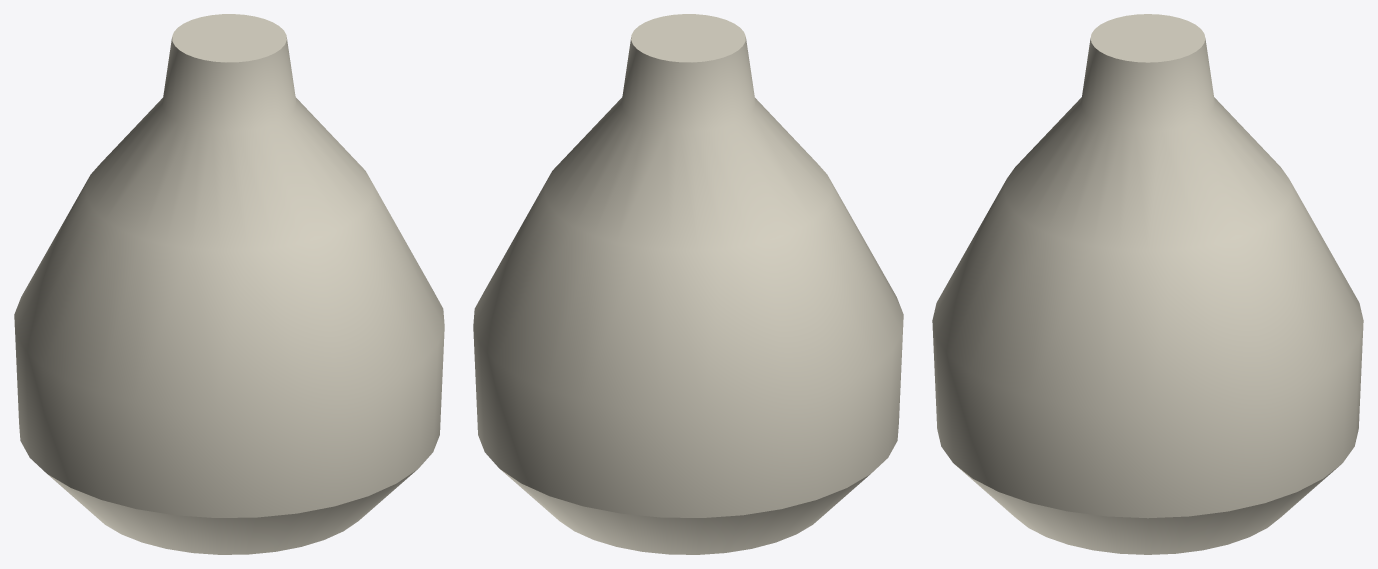
File: round_bulb.glb
The picture shows the model from 3 angles, left to right: view 1: azimuth 30°, elevation 25°; view 2: azimuth 150°, elevation 25°; view 3: azimuth 270°, elevation 25°; orthographic projection.
Parts seen in each view (by area): view 1: round_bulb; view 2: round_bulb; view 3: round_bulb.
Boxes of the visible parts, x1=… form: round_bulb: x1=14, y1=14, x2=444, y2=554; round_bulb: x1=473, y1=14, x2=903, y2=554; round_bulb: x1=932, y1=14, x2=1363, y2=554.
Size of the model in its own units: 0.09 by 0.11 by 0.09.
